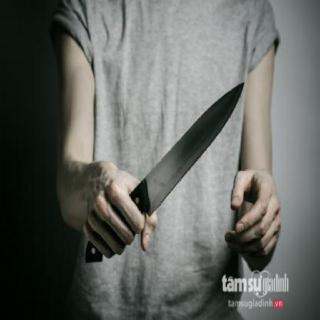knife: (115, 74, 248, 256)
